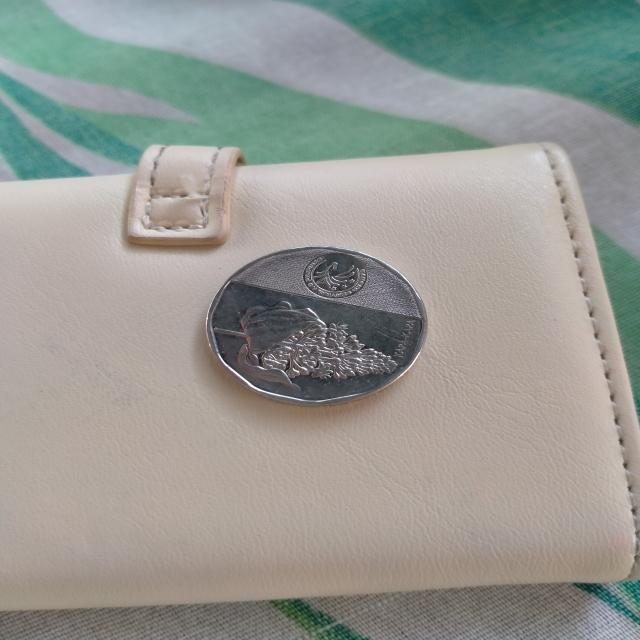10_New_Back: (209, 295, 409, 386)
